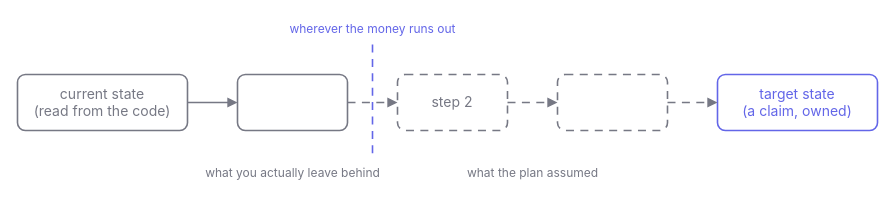
The diagram is 896 pixels wide and 201 high, and some of its shapes have lost their labels. Each missing label, with the centre of its shape:
step 1: the point at 292,102
step 3: the point at 612,102
